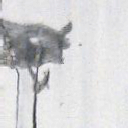crackTip: (11, 44, 45, 128)
